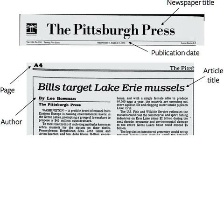news_paper: (25, 62, 195, 136), (17, 12, 206, 47)
